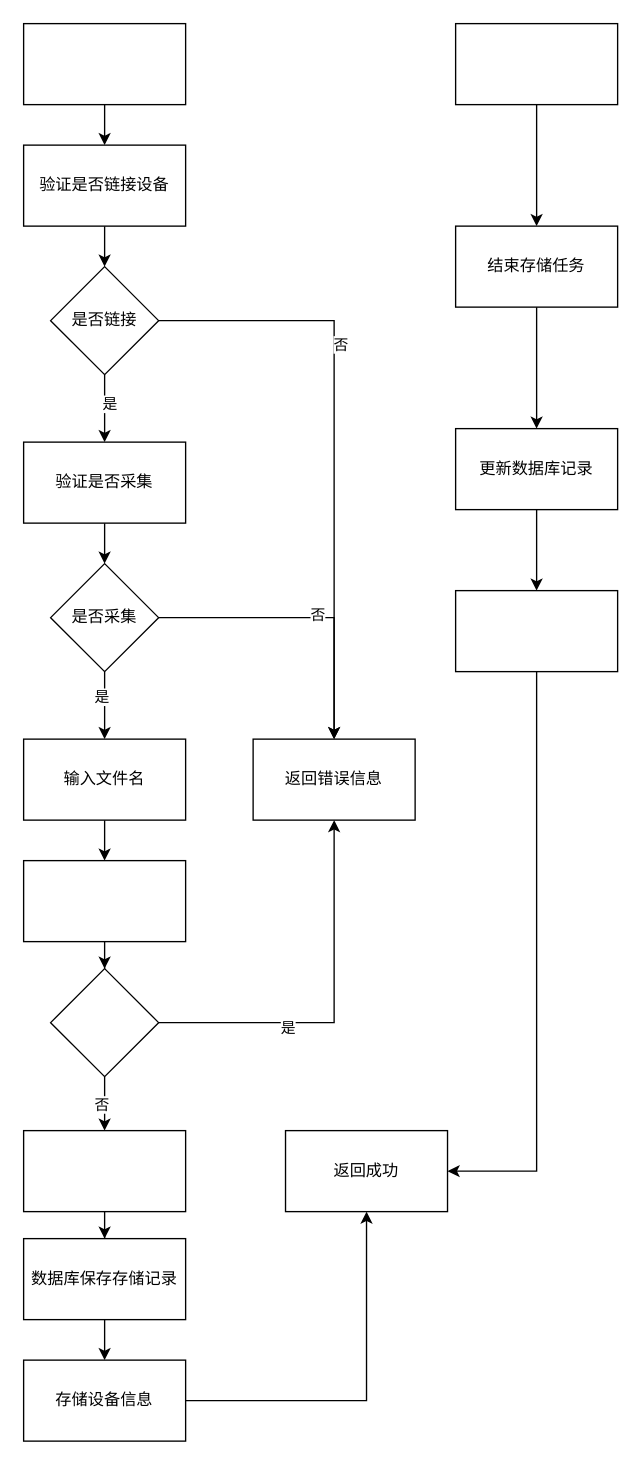
This 641x1465 diagram has some shape labels left out. The shapes that lost their labels are listed below. From the top down, each one's centre as x and y in pixels, then its label:
(104,63): 点击开始录制
(536,63): 点击结束录制
(536,630): 更新设备信息
(104,900): 验证名称是否存在
(104,1022): 是否存在
(104,1170): 启动存储任务
